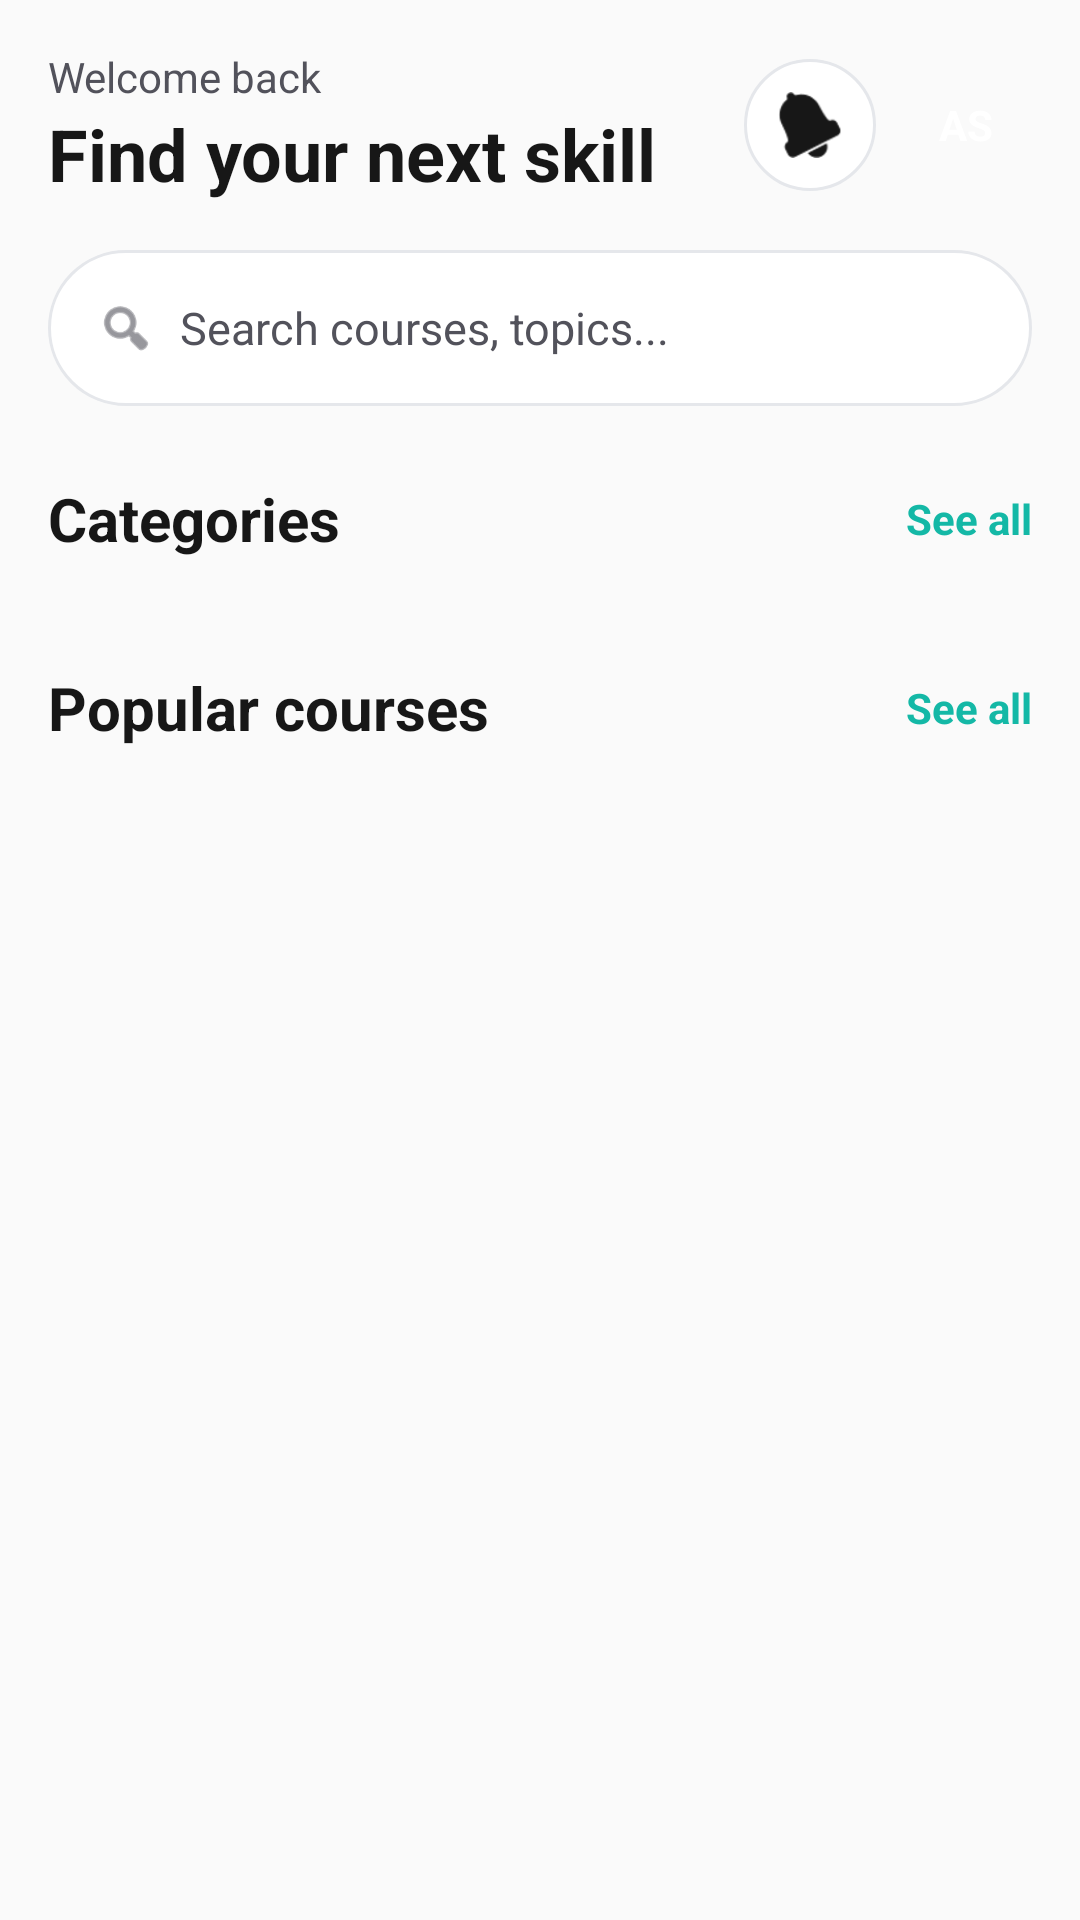

Named icons in this screenshot (1080 x 1920) and their centers, point (x, y):
Notifications: point (810, 125)
